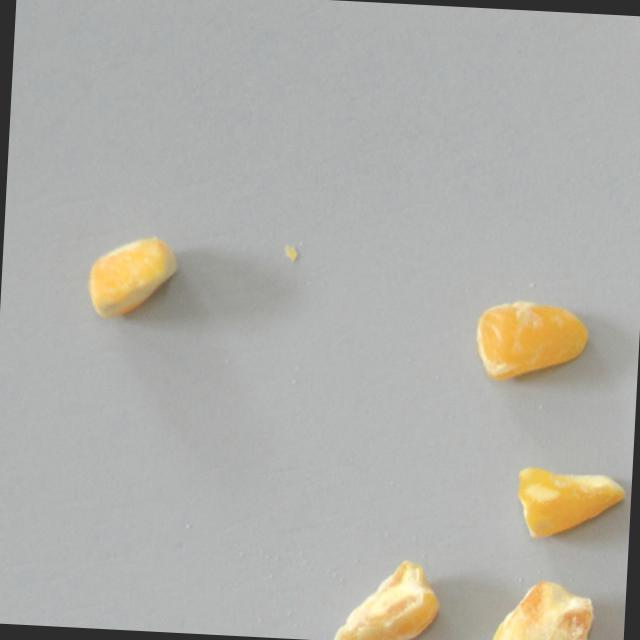pelicula: (474, 297, 591, 384), (331, 554, 444, 640), (515, 465, 628, 545), (84, 230, 181, 321), (491, 577, 599, 640)
